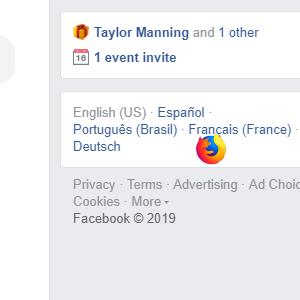firefox: (196, 132, 226, 164)
